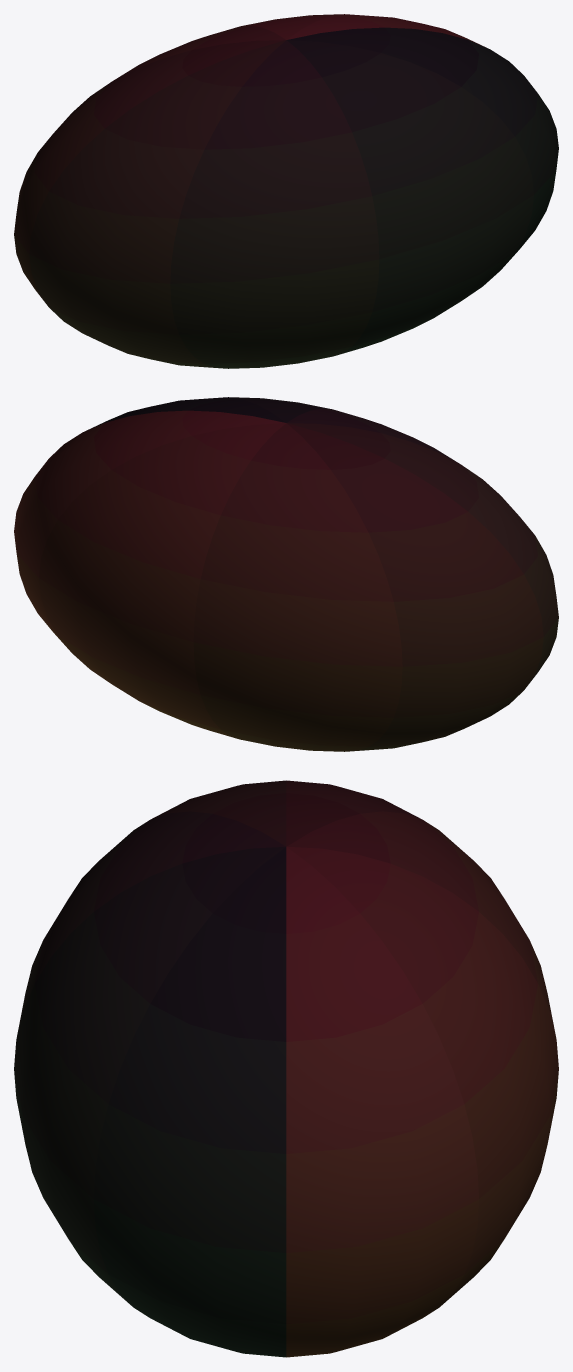
File: draco-piece.glb
3 renders of one model, top to bottom at view 1: azimuth 30°, elevation 25°; view 2: azimuth 150°, elevation 25°; view 3: azimuth 270°, elevation 25°, orthographic. The views are drawn at different scales.
Visible parts, largest first — view 1: piece; view 2: piece; view 3: piece.
Boxes of the visible parts, x1,y1,x2,y2 form: piece: (14, 14, 558, 368); piece: (14, 397, 558, 751); piece: (14, 780, 558, 1357).
Bounding box in the file's own units: 1.6 × 0.9 × 1.
1 material, 1 textured.
